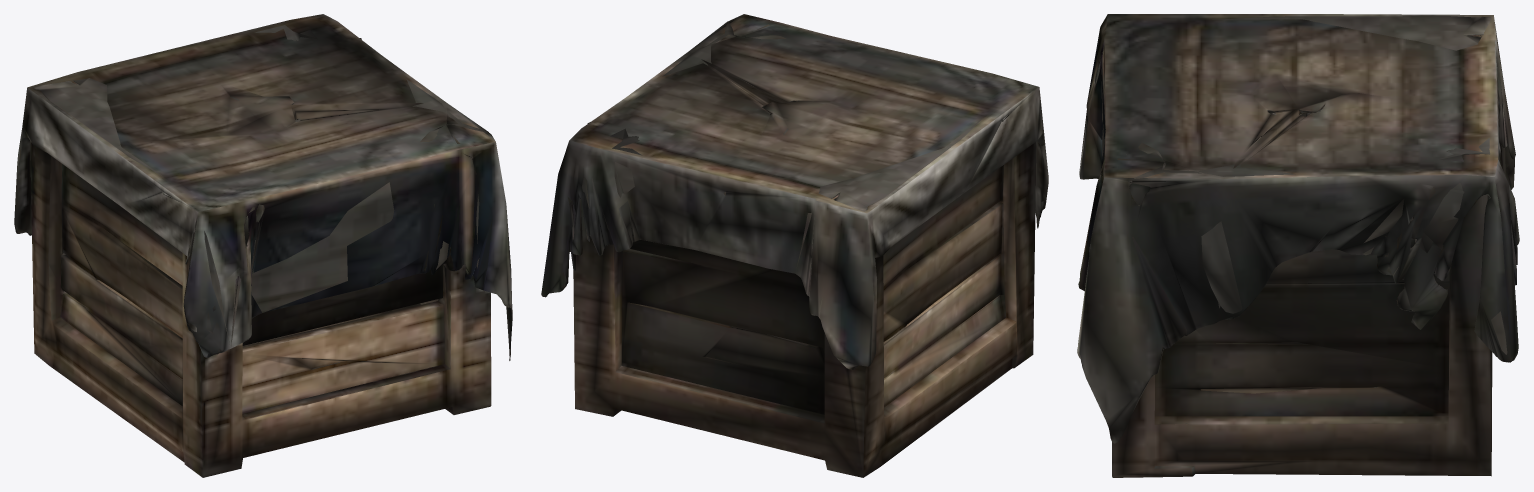
The model's file is crate1.glb.
The picture shows the model from 3 angles, left to right: view 1: azimuth 30°, elevation 25°; view 2: azimuth 150°, elevation 25°; view 3: azimuth 270°, elevation 25°; orthographic projection. The views are drawn at different scales.
Bounding box in the file's own units: 1.96 × 1.5 × 1.96.
1 material, 1 textured.
